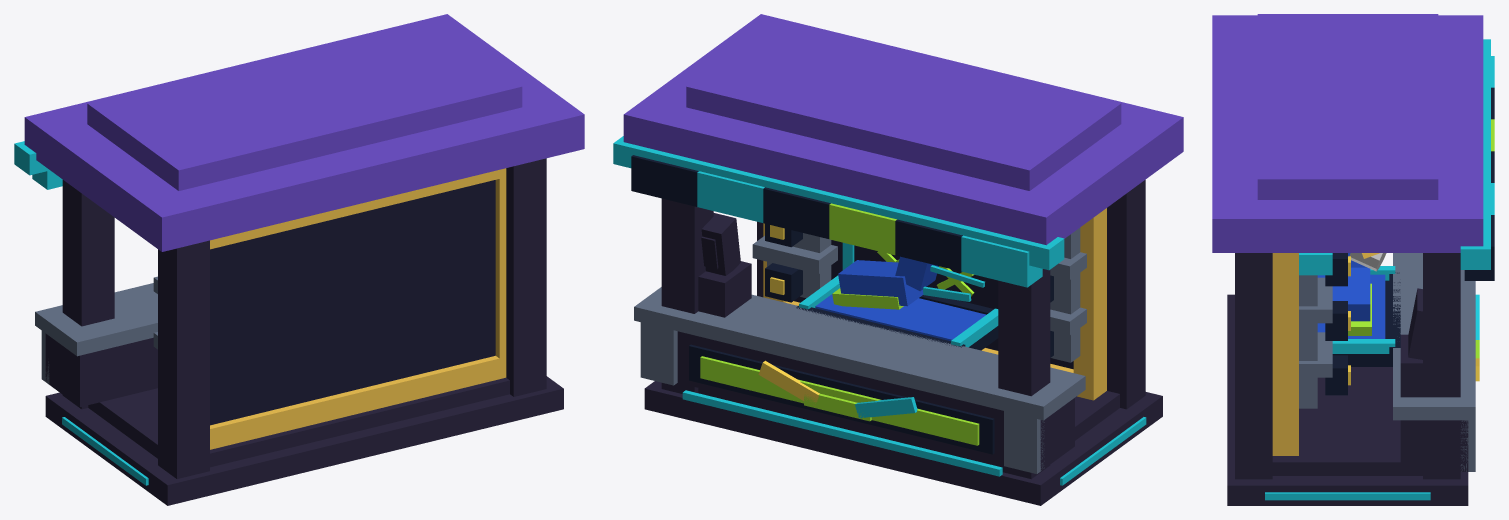
Rendered from KLC_Kiosk_03_SpeedUpgrade.fbx.
3 renders of one model, left to right at view 1: azimuth 30°, elevation 25°; view 2: azimuth 150°, elevation 25°; view 3: azimuth 270°, elevation 25°, orthographic.
Visible parts, largest first — view 1: BackPanel, Canopy_Ridge, Canopy_Main, BaseDeck, Post_BL, Post_BR, BasePlinth, BackFrame_Bottom, Post_FL, CounterBody, CounterTop, BackFrame_Top (+3 smaller); view 2: Canopy_Ridge, Canopy_Main, CounterTop, BaseDeck, Post_BL, CounterBody, Post_FL, Canopy_FrontEdge, Post_FR, CounterFrontInset, CounterGlow, BackFrame_Left (+30 smaller); view 3: Canopy_Ridge, Canopy_Main, BasePlinth, Post_BR, BaseDeck, CounterTop, Post_FR, BackFrame_Right, CounterBody, Canopy_FrontEdge, TokenRack_R_Back, Register_Base (+18 smaller).
Boxes of the visible parts, x1=… form: BackPanel: x1=210, y1=180, x2=495, y2=425; Canopy_Ridge: x1=87, y1=19, x2=522, y2=190; Canopy_Main: x1=24, y1=14, x2=584, y2=251; BaseDeck: x1=45, y1=376, x2=563, y2=505; Post_BL: x1=158, y1=240, x2=209, y2=478; Post_BR: x1=506, y1=158, x2=546, y2=396; BasePlinth: x1=88, y1=377, x2=509, y2=467; BackFrame_Bottom: x1=210, y1=355, x2=506, y2=449; Post_FL: x1=62, y1=180, x2=114, y2=409; CounterBody: x1=45, y1=333, x2=157, y2=406; CounterTop: x1=35, y1=283, x2=157, y2=356; BackFrame_Top: x1=210, y1=168, x2=506, y2=249; Canopy_Ridge: x1=686, y1=20, x2=1121, y2=190; Canopy_Main: x1=623, y1=14, x2=1183, y2=245; CounterTop: x1=634, y1=287, x2=1085, y2=420; BaseDeck: x1=644, y1=381, x2=1162, y2=505; Post_BL: x1=1107, y1=180, x2=1145, y2=409; CounterBody: x1=677, y1=331, x2=1074, y2=470; Post_FL: x1=998, y1=269, x2=1050, y2=479; Canopy_FrontEdge: x1=613, y1=136, x2=1064, y2=270; Post_FR: x1=661, y1=198, x2=713, y2=393; CounterFrontInset: x1=689, y1=344, x2=994, y2=454; CounterGlow: x1=700, y1=356, x2=979, y2=445; BackFrame_Left: x1=1073, y1=208, x2=1106, y2=379; Canopy_Ridge: x1=1257, y1=14, x2=1438, y2=199; Canopy_Main: x1=1212, y1=15, x2=1483, y2=252; BasePlinth: x1=1272, y1=367, x2=1422, y2=475; Post_BR: x1=1235, y1=253, x2=1272, y2=479; BaseDeck: x1=1227, y1=294, x2=1468, y2=505; CounterTop: x1=1393, y1=253, x2=1475, y2=420; Post_FR: x1=1423, y1=253, x2=1460, y2=479; BackFrame_Right: x1=1272, y1=258, x2=1298, y2=435; CounterBody: x1=1400, y1=420, x2=1468, y2=471; Canopy_FrontEdge: x1=1460, y1=39, x2=1490, y2=269; TokenRack_R_Back: x1=1299, y1=275, x2=1317, y2=408; Register_Base: x1=1400, y1=334, x2=1453, y2=397.
Bounding box in the file's own units: 412 × 288 × 234.
12 materials, 12 textured.
